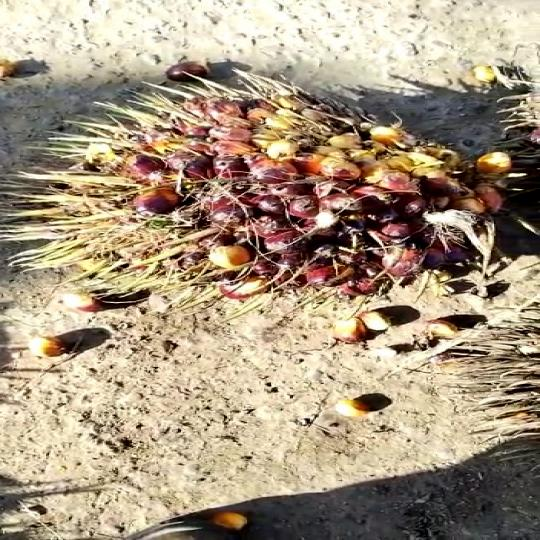masak: (13, 77, 540, 300)
